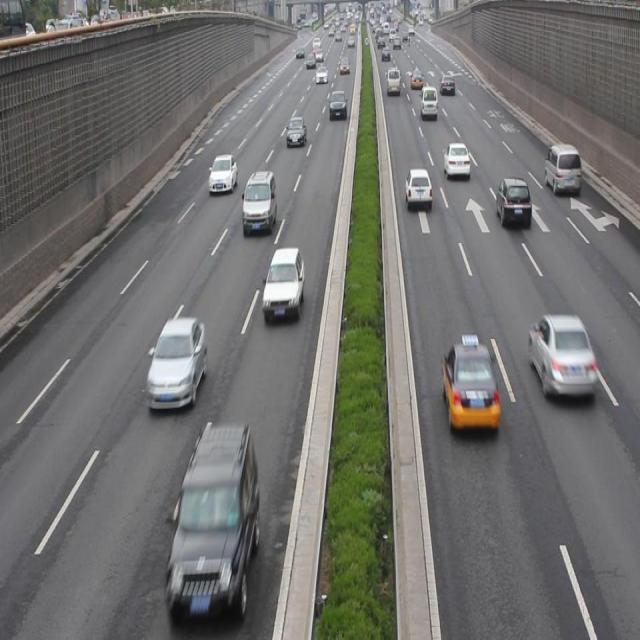car: (165, 422, 258, 616), (528, 313, 595, 399), (146, 316, 206, 409), (441, 341, 499, 434), (262, 246, 304, 319), (494, 176, 530, 228), (208, 152, 238, 194), (404, 168, 431, 209), (443, 140, 469, 178), (285, 114, 306, 149)
truck: (242, 169, 276, 234), (544, 142, 580, 195)
